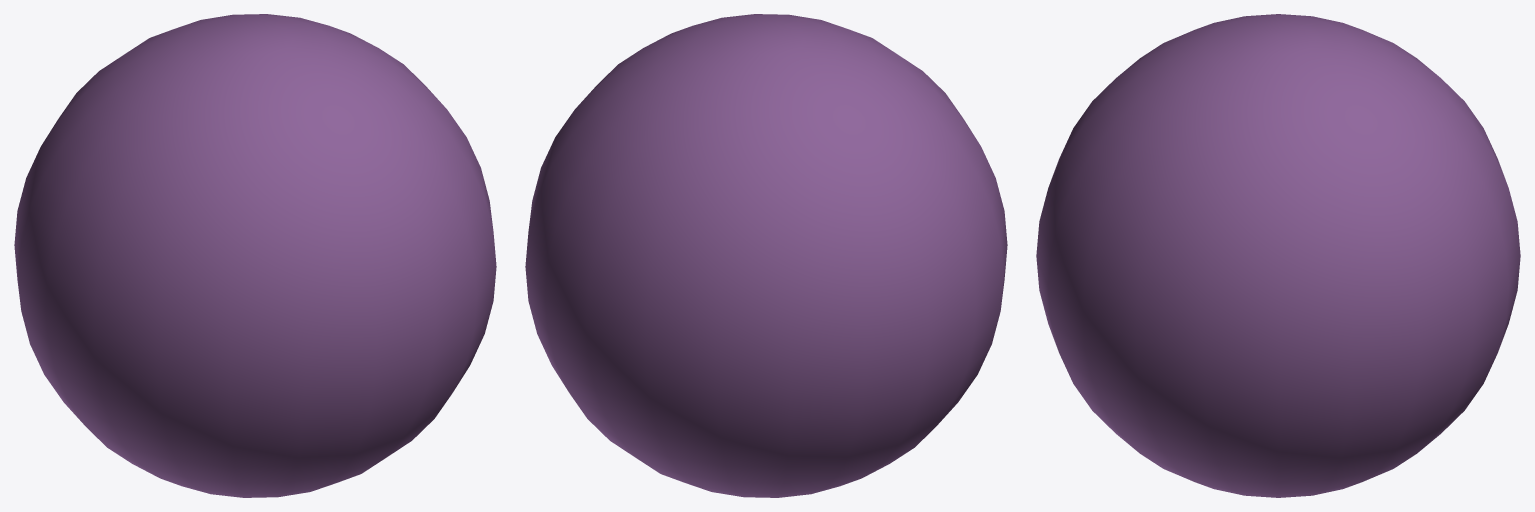
Rendered from Elebeat_Sence.fbx.
3 views of the same model, side by side, from view 1: azimuth 30°, elevation 25°; view 2: azimuth 150°, elevation 25°; view 3: azimuth 270°, elevation 25° (orthographic).
Parts seen in each view (by area): view 1: pSphere1; view 2: pSphere1; view 3: pSphere1.
Part boxes in pixels (<box>): pSphere1: <box>14,14,496,497</box>; pSphere1: <box>525,14,1007,497</box>; pSphere1: <box>1036,14,1520,497</box>.
Bounding box in the file's own units: 5582 × 5582 × 5582.
